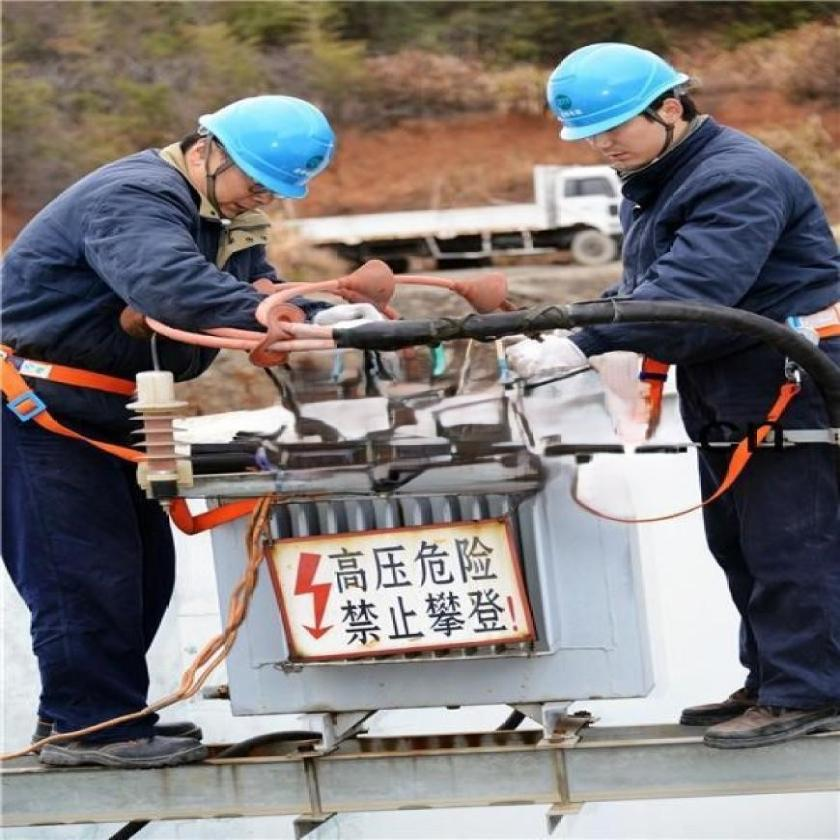Con_casco: (196, 56, 352, 256), (529, 25, 712, 155)
